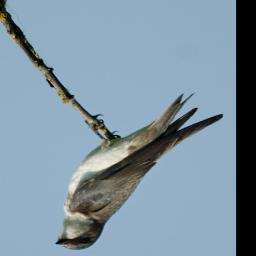Swallow: (54, 92, 224, 251)
